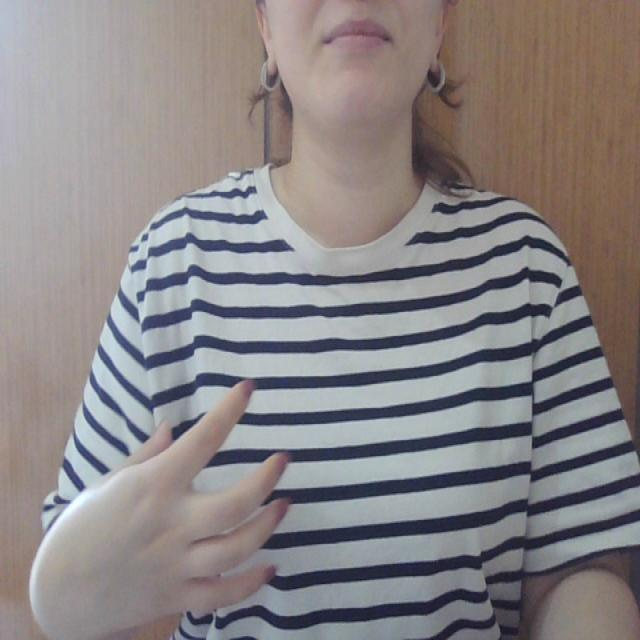Anne: (66, 366, 505, 640)
